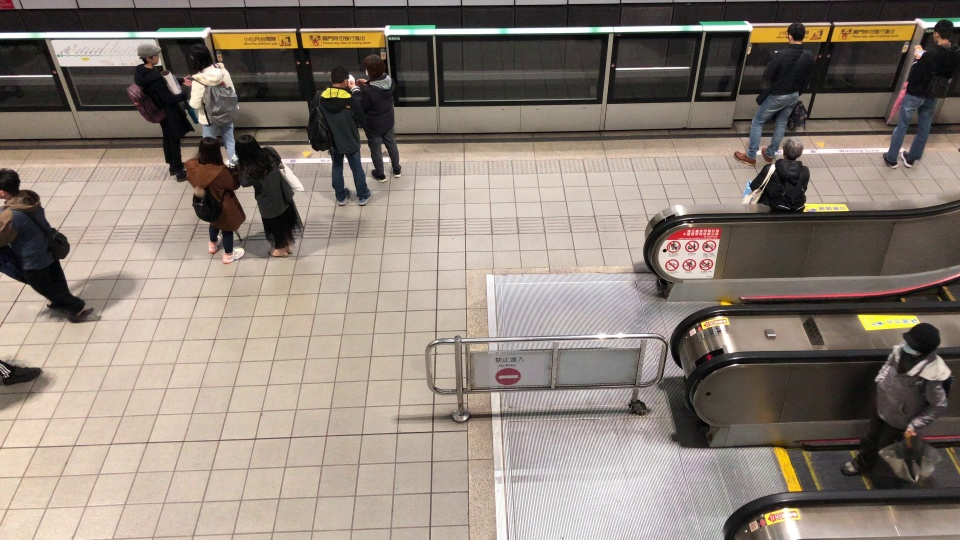person_head: (898, 322, 942, 359), (186, 136, 224, 166), (233, 134, 263, 164), (186, 42, 214, 72), (929, 19, 956, 46), (135, 42, 163, 68), (0, 167, 20, 199), (362, 54, 387, 79), (781, 138, 804, 161), (327, 65, 349, 88), (786, 22, 806, 45)
person_vbox: (839, 322, 953, 490), (0, 163, 95, 324), (732, 24, 817, 167), (882, 19, 959, 171), (125, 42, 199, 184), (225, 134, 307, 259), (307, 65, 373, 208), (176, 136, 248, 264), (180, 42, 241, 166), (354, 52, 404, 183), (742, 137, 809, 213)
